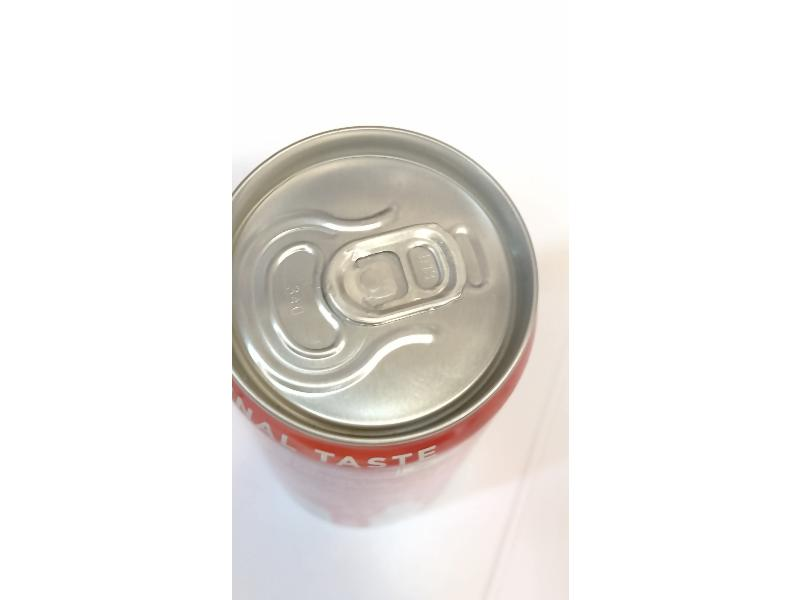can: (219, 122, 551, 482)
